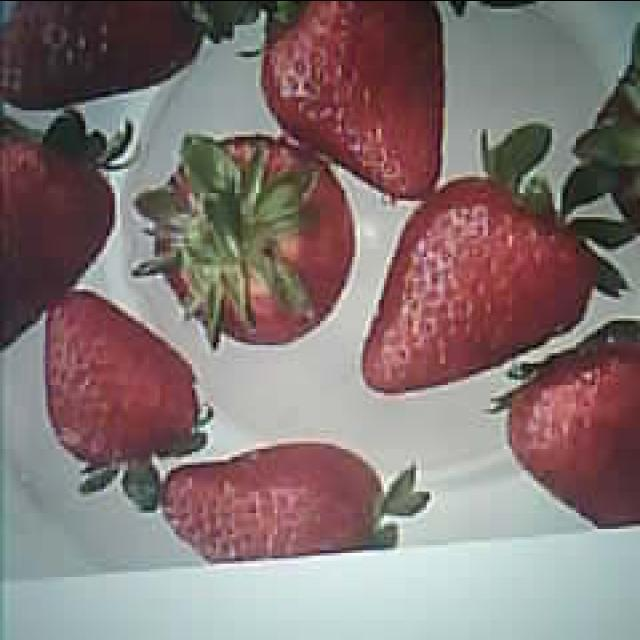ripe: (360, 174, 591, 392), (255, 0, 446, 200), (161, 442, 392, 568), (44, 289, 198, 470)
